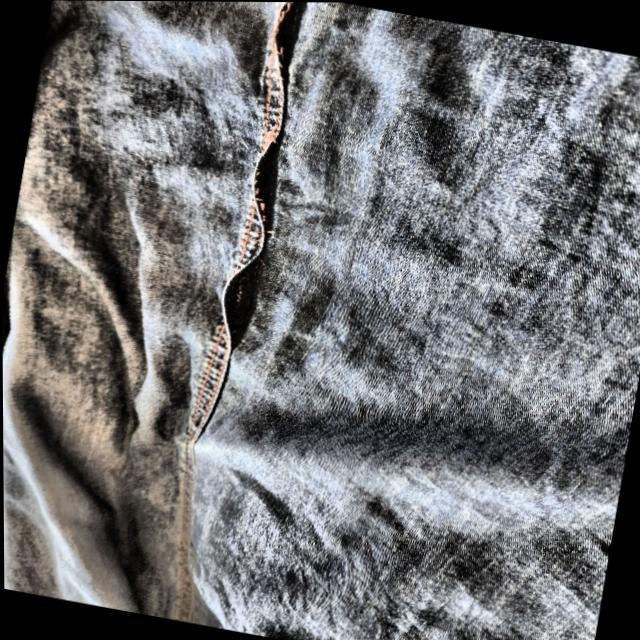seam: (229, 125, 303, 245), (201, 248, 276, 358), (260, 0, 317, 78)
